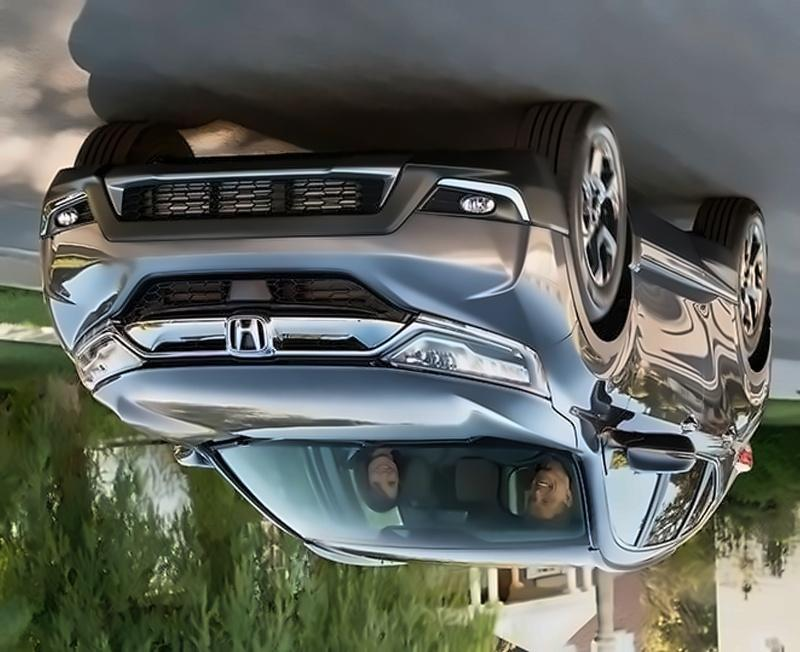Car hood: (88, 361, 578, 456)
Driver-s door - -F-R-: (613, 230, 700, 554)
Fender - -F-R-: (532, 228, 637, 460)
Fender - -R-R-: (731, 341, 770, 446)
Front bumper: (33, 142, 578, 349)
Headlight - -L-: (59, 316, 149, 395)
Headlight - -R-: (377, 303, 557, 404)
Passenger-s door - -R-R-: (651, 248, 738, 553)
Rear light - -R-: (723, 428, 757, 480)
Side bumper - -R-: (619, 192, 744, 305)
Side mirror - -L-: (159, 436, 225, 474)
Side mirror - -R-: (603, 429, 700, 479)
